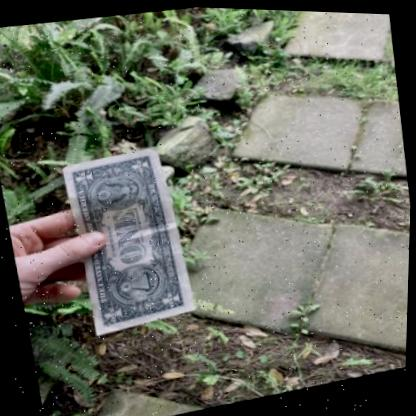dollar_back: (62, 148, 194, 337)
